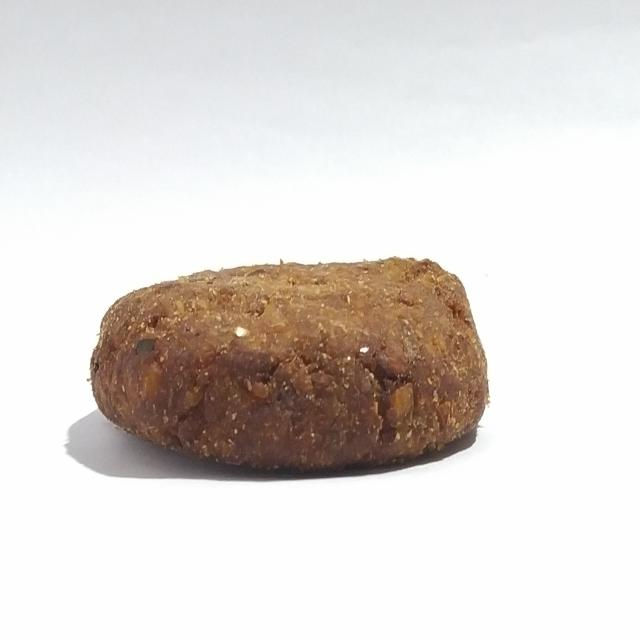Pajagua: (80, 249, 504, 478)
